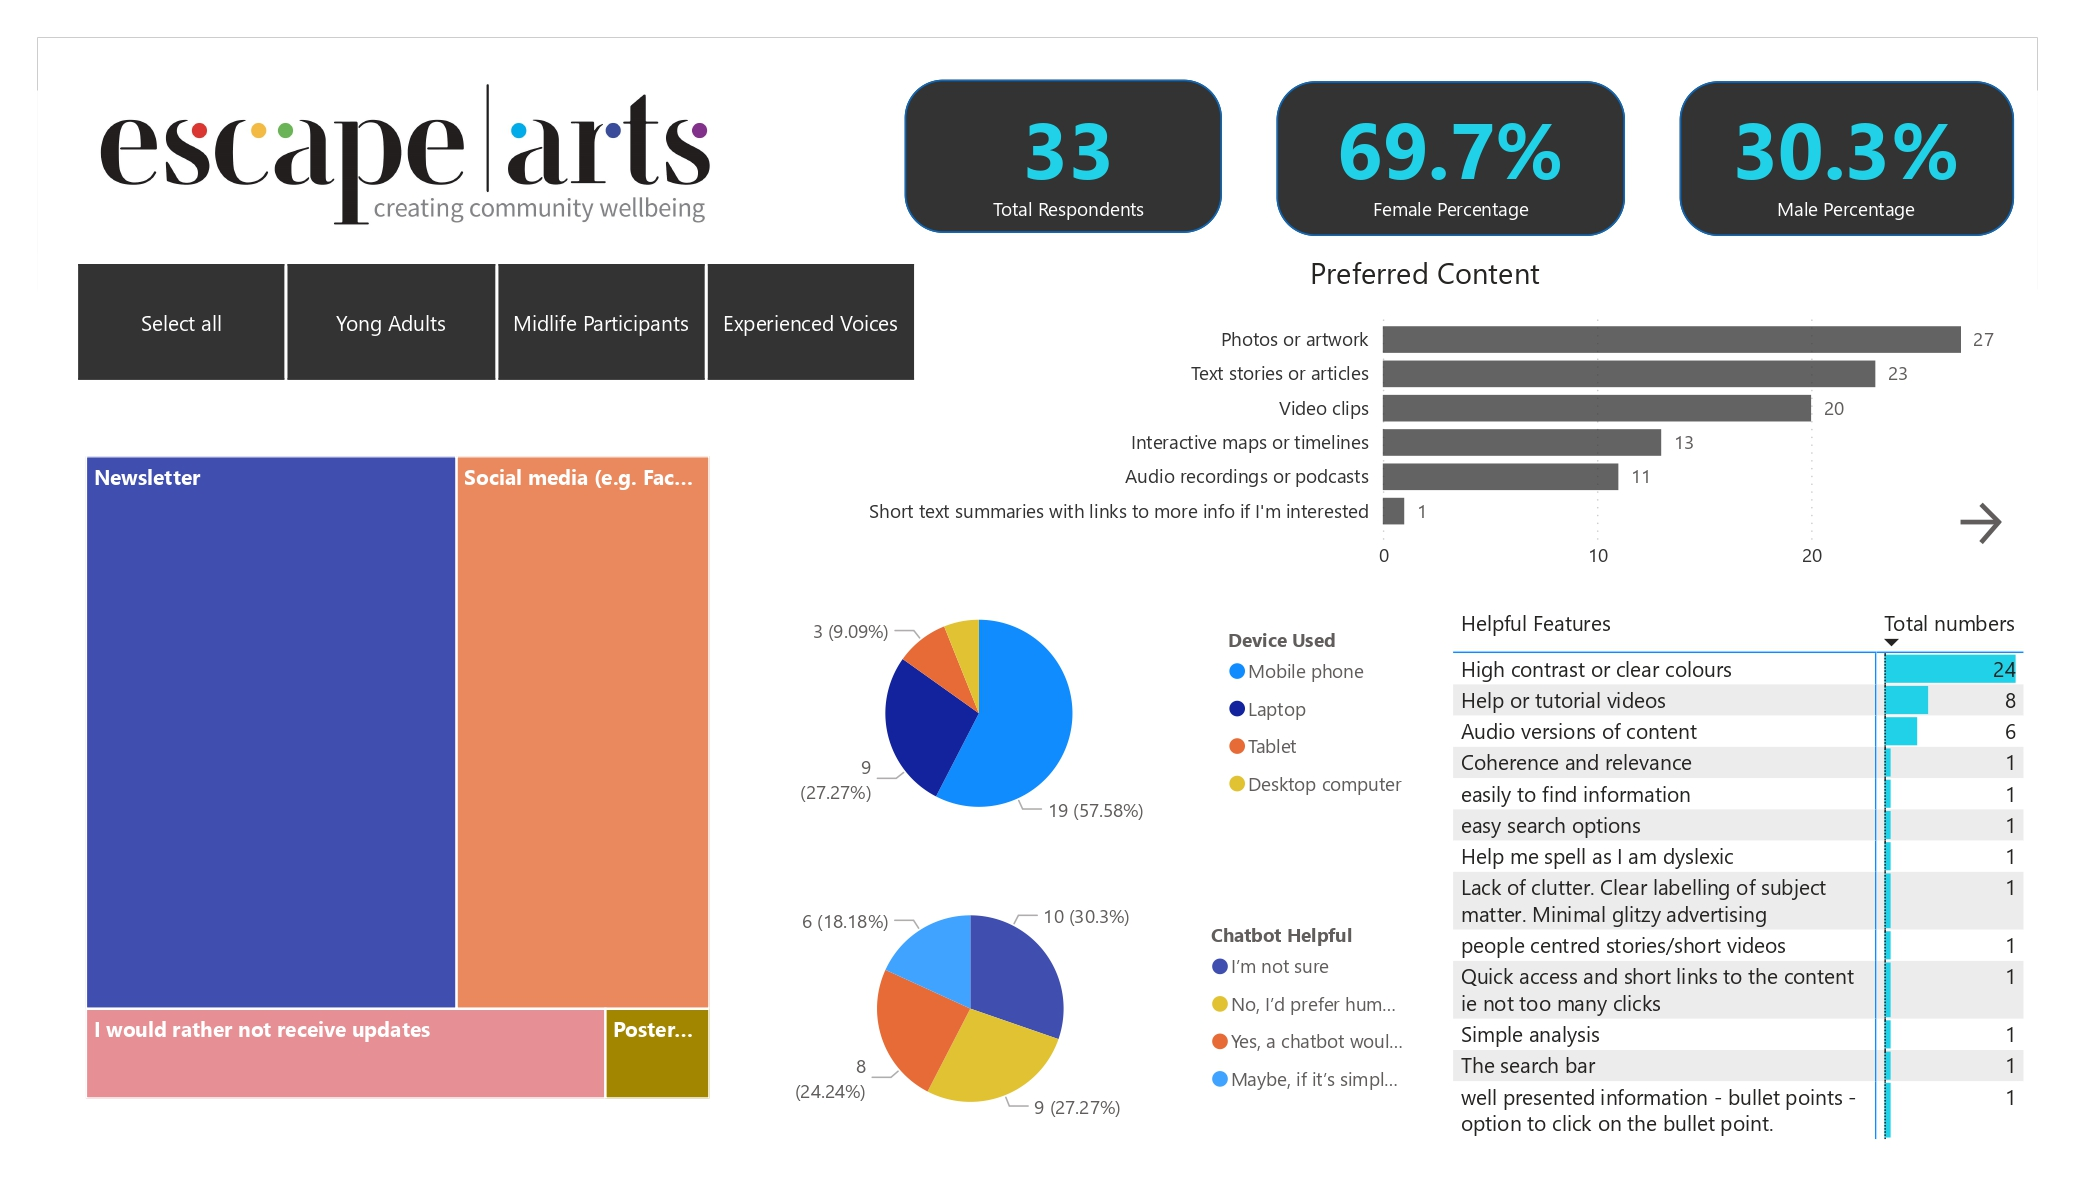

The dashboard page shown, as its layout file describes it:
{"tool":"powerbi","page":{"name":"Website Features","canvas":[1280,720],"ordinal":0},"visuals":[{"type":"shape","box":[554.8,27,203.4,98.2],"z":0},{"type":"card","fields":{"Values":["People's Archive- community survey (Responses).Total respondents"]},"box":[573.3,25.6,173.6,102.4],"z":1000},{"type":"textbox","box":[122.3,28.5,354.2,52.6],"z":2000},{"type":"image","box":[25.6,7.1,422.5,140.8],"z":3000},{"type":"shape","box":[793.1,28.5,223.4,98.2],"z":4000},{"type":"card","fields":{"Values":["Measures Table.Female %"]},"box":[809.5,25.6,190.6,102.4],"z":5000},{"type":"shape","box":[1051.4,28.5,213.4,98.2],"z":6000},{"type":"card","fields":{"Values":["Measures Table.Male %"]},"box":[1065.6,25.6,183.5,102.4],"z":7000},{"type":"clusteredBarChart","title":"Preferred Content","fields":{"Category":["Preferred Content Answers.Preferred Content"],"Y":["Preferred Content Answers.Number of responses"]},"box":[510.7,138,754,212],"z":8000},{"type":"slicer","fields":{"Values":["People Archive- community survey (Responses).Age Category"]},"box":[0,138,584.7,88.2],"z":9000},{"type":"pieChart","fields":{"Y":["People Archive- community survey (Responses).Total Respondents"],"Category":["People Archive- community survey (Responses).Chatbot Helpful"]},"box":[438.2,539.2,449.6,165],"z":10000},{"type":"pivotTable","fields":{"Rows":["Helpful Features Answers.Helpful Features"],"Values":["Helpful Features Answers.Total numbers"]},"box":[900.5,359.9,379.9,357.1],"z":11000},{"type":"treemap","fields":{"Group":["Update Preferences Answers.Preferred Update Methods"],"Values":["Update Preferences Answers.Number of people"]},"box":[25.6,263.2,409.7,421.1],"z":12000},{"type":"pieChart","fields":{"Y":["People Archive- community survey (Responses).Total Respondents"],"Category":["People Archive- community survey (Responses).Device Used"]},"box":[438.2,350,449.6,165],"z":13000},{"type":"actionButton","box":[1224.9,293.1,55.5,35.6],"z":14000}]}

Visuals, with their boxes on the page's 1280x720 design canvas (x1, y1, x2, y2). These are canvas units, not pixel positions in the 2075x1200 screenshot, which may show the page scaled, cropped or inside an application window:
shape: bbox=[555, 27, 758, 125]
card - People's Archive- community survey (Responses).Total respondents: bbox=[573, 26, 747, 128]
textbox: bbox=[122, 28, 476, 81]
image: bbox=[26, 7, 448, 148]
shape: bbox=[793, 28, 1016, 127]
card - Measures Table.Female %: bbox=[810, 26, 1000, 128]
shape: bbox=[1051, 28, 1265, 127]
card - Measures Table.Male %: bbox=[1066, 26, 1249, 128]
"Preferred Content" clusteredBarChart: bbox=[511, 138, 1265, 350]
slicer - People Archive- community survey (Responses).Age Category: bbox=[0, 138, 585, 226]
pieChart - People Archive- community survey (Responses).Total Respondents x People Archive- community survey (Responses).Chatbot Helpful: bbox=[438, 539, 888, 704]
pivotTable - Helpful Features Answers.Helpful Features x Helpful Features Answers.Total numbers: bbox=[900, 360, 1280, 717]
treemap - Update Preferences Answers.Preferred Update Methods x Update Preferences Answers.Number of people: bbox=[26, 263, 435, 684]
pieChart - People Archive- community survey (Responses).Total Respondents x People Archive- community survey (Responses).Device Used: bbox=[438, 350, 888, 515]
actionButton: bbox=[1225, 293, 1280, 329]
